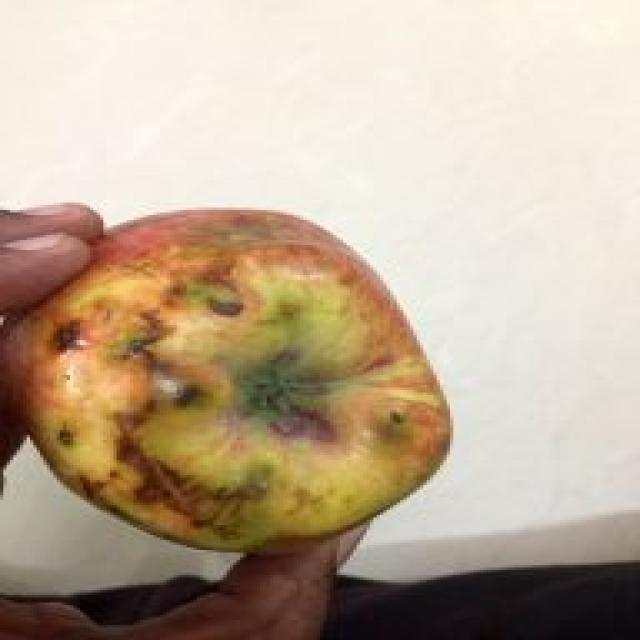Bad_Apple: (5, 210, 450, 551)
